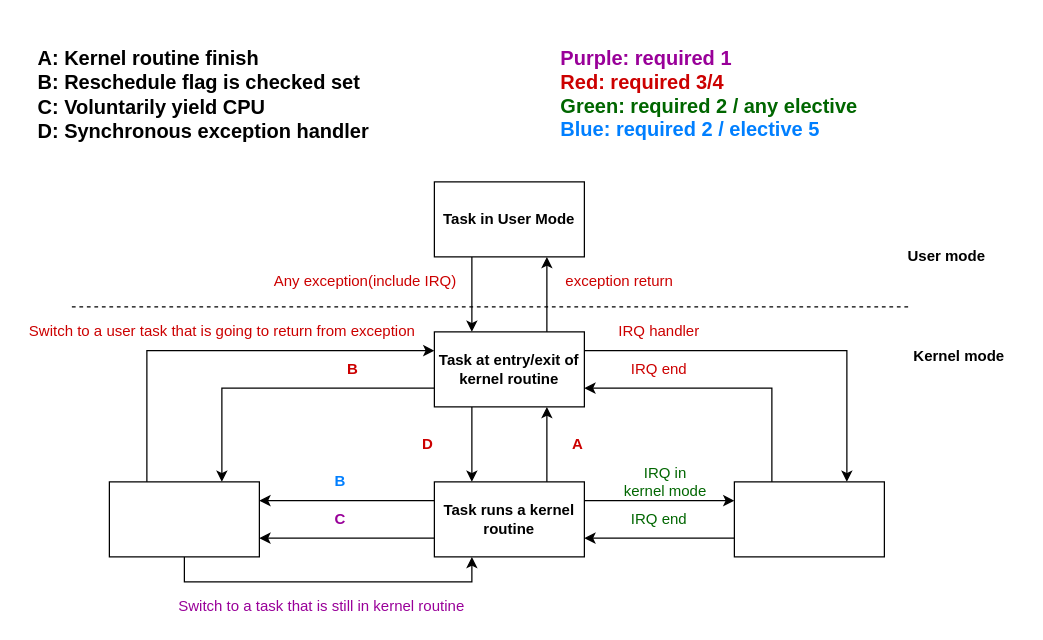
This 1043x640 diagram has some shape labels left out. Here are the shapes that lost their labels. From the top down, the box of each, then its label:
(108, 481, 259, 557): Context switch state
(733, 481, 884, 557): Task in interrupt context
